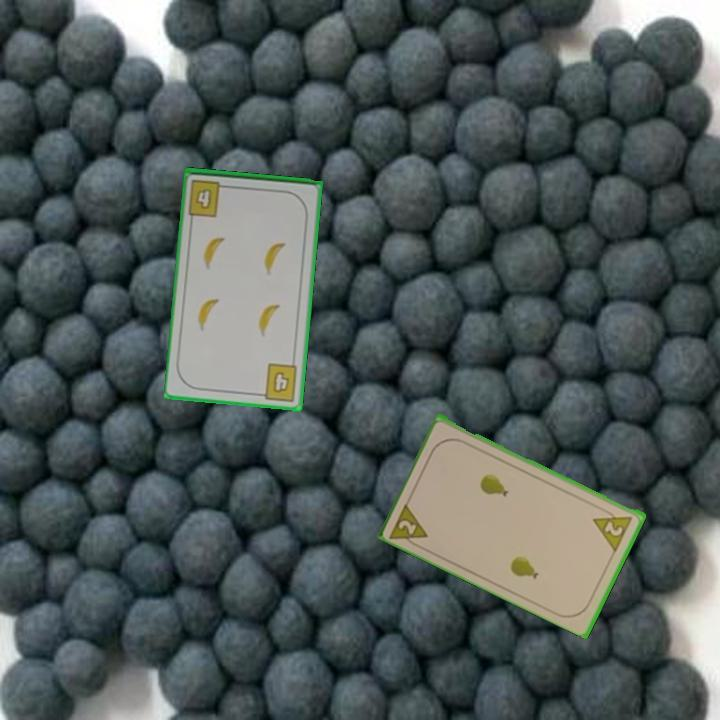2p: (386, 498, 432, 552), (590, 504, 636, 553)
4b: (254, 360, 301, 404), (185, 176, 232, 220)
